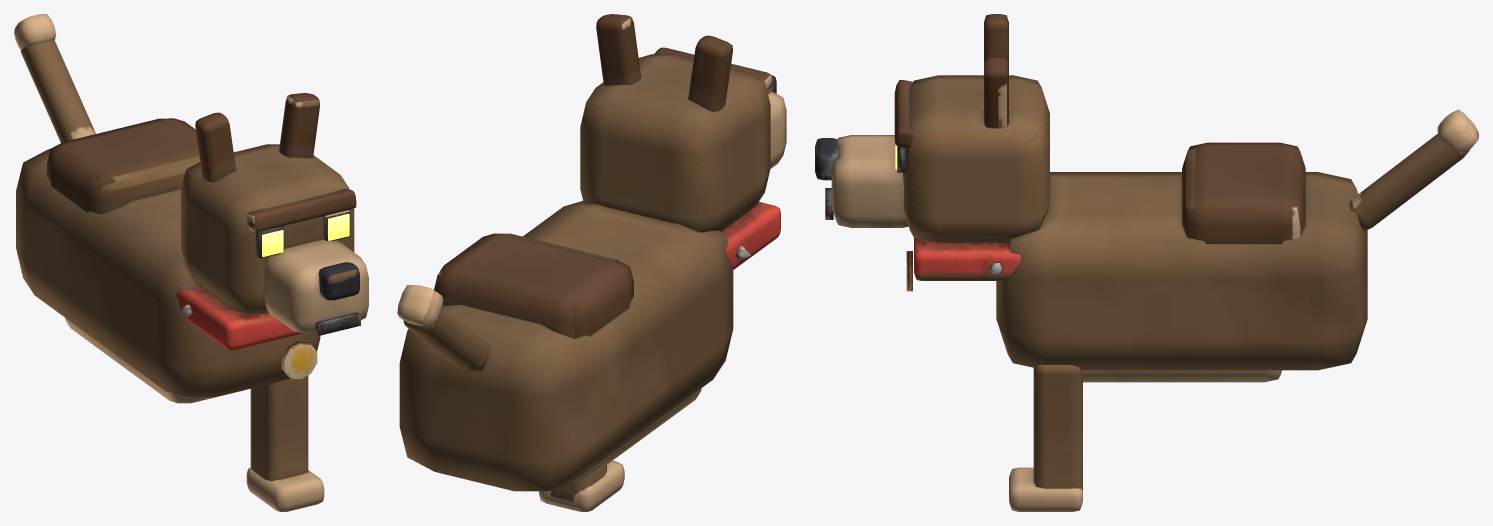
File: dog.glb
The picture shows the model from 3 angles, left to right: view 1: azimuth 30°, elevation 25°; view 2: azimuth 150°, elevation 25°; view 3: azimuth 270°, elevation 25°; orthographic projection. The views are drawn at different scales.
Visible parts, largest first — view 1: body, leg, glow_eye_l, glow_eye_r; view 2: body, leg; view 3: body, leg.
Boxes of the visible parts, x1,y1,x2,y2 form: body: [14, 14, 368, 403]; leg: [246, 375, 324, 511]; glow_eye_l: [262, 230, 283, 256]; glow_eye_r: [328, 213, 349, 240]; body: [397, 14, 786, 491]; leg: [539, 460, 624, 511]; body: [815, 14, 1478, 382]; leg: [1009, 365, 1082, 511].
Size of the model in its own units: 0.46 by 1.17 by 1.61.
Materials: 2 (1 with a texture image).
